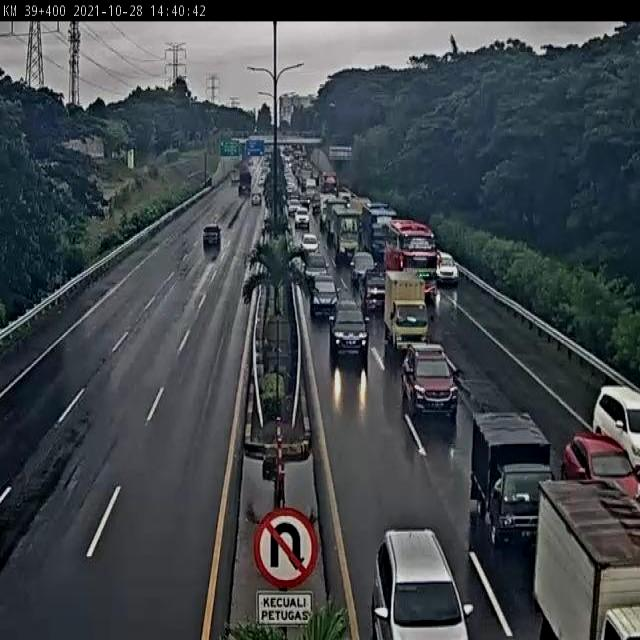Car: (375, 526, 469, 640), (398, 340, 464, 419), (331, 300, 368, 366), (307, 272, 338, 318), (435, 240, 460, 288), (350, 251, 375, 293), (202, 224, 221, 246), (294, 209, 310, 229), (300, 168, 312, 191), (262, 210, 272, 233), (285, 180, 296, 198), (339, 191, 352, 205), (258, 173, 267, 190), (251, 192, 261, 205), (247, 158, 253, 166)
Truck: (533, 462, 640, 640), (466, 402, 552, 543), (387, 216, 436, 296), (384, 270, 429, 350), (360, 204, 403, 266)
